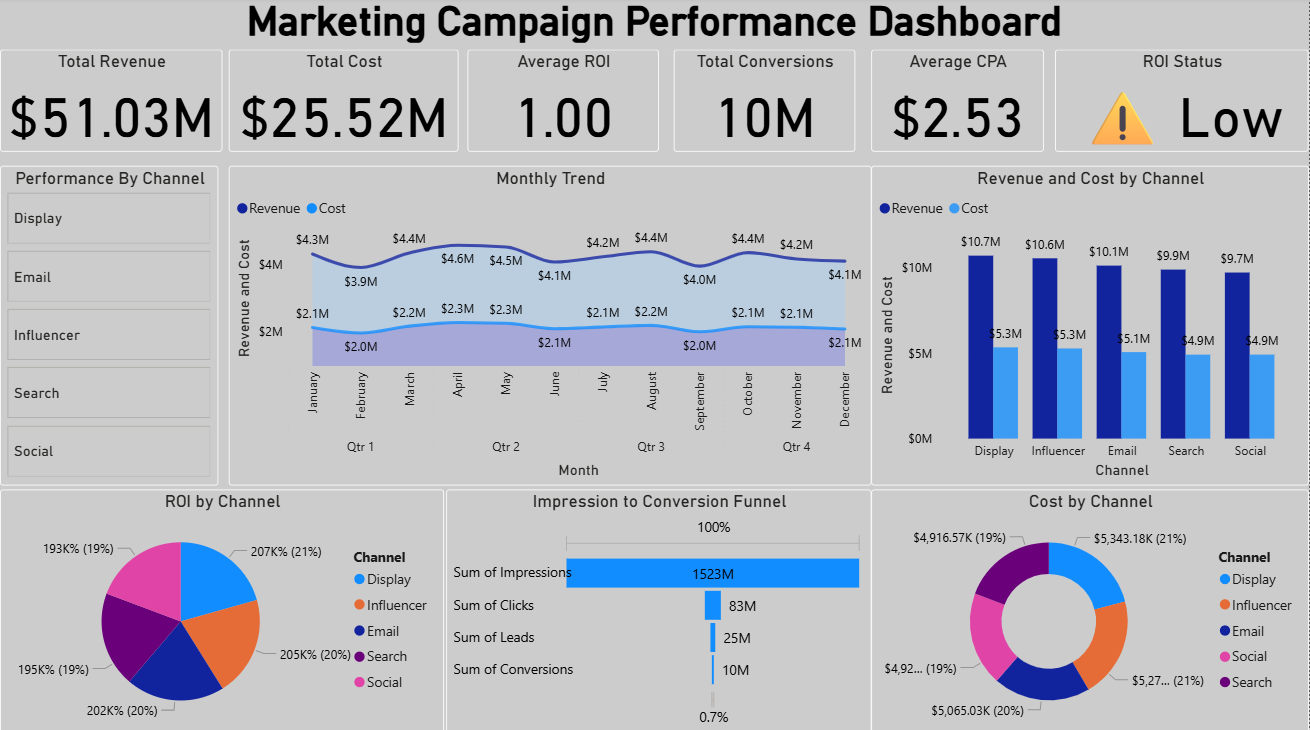

This screenshot's page, from the dashboard's own definition file:
{"tool":"powerbi","page":{"name":"Page 1","canvas":[1280,720],"ordinal":0},"visuals":[{"type":"card","title":"Total Revenue","fields":{"Values":["Sum(marketing_campaign_performance_10000. Revenue_USD )"]},"box":[0,51.4,217.7,100.3],"z":0},{"type":"card","title":"Average ROI","fields":{"Values":["marketing_campaign_performance_10000.Final Overall ROI"]},"box":[457.3,51.4,187.1,100.3],"z":1000},{"type":"card","title":"Total Cost","fields":{"Values":["Sum(marketing_campaign_performance_10000. Cost_USD )"]},"box":[223.8,51.4,225,100.3],"z":2000},{"type":"card","title":"Total Conversions","fields":{"Values":["Sum(marketing_campaign_performance_10000.Conversions)"]},"box":[659.1,51.4,177.3,100.3],"z":3000},{"type":"card","title":"Average CPA","fields":{"Values":["marketing_campaign_performance_10000.Average CPA"]},"box":[852.3,51.4,168.8,100.3],"z":4000},{"type":"card","title":"ROI Status","fields":{"Values":["marketing_campaign_performance_10000.ROI Status"]},"box":[1032.1,51.4,248.2,100.3],"z":5000},{"type":"advancedSlicerVisual","title":"Performance By Channel","fields":{"Values":["marketing_campaign_performance_10000.Channel"]},"box":[0,165.1,214,313],"z":6000},{"type":"lineChart","title":"Monthly Trend","fields":{"Y":["Sum(marketing_campaign_performance_10000. Revenue_USD )","Sum(marketing_campaign_performance_10000. Cost_USD )"],"Category":["marketing_campaign_performance_10000.StartDate.Variation.Date Hierarchy.Quarter","marketing_campaign_performance_10000.StartDate.Variation.Date Hierarchy.Month"]},"box":[223.8,165.1,628.5,313],"z":7000},{"type":"clusteredColumnChart","fields":{"Category":["marketing_campaign_performance_10000.Channel"],"Y":["Sum(marketing_campaign_performance_10000. Revenue_USD )","Sum(marketing_campaign_performance_10000. Cost_USD )"]},"box":[852.3,165.1,428,313],"z":8000},{"type":"pieChart","title":"ROI  by Channel","fields":{"Category":["marketing_campaign_performance_10000.Channel"],"Y":["Sum(marketing_campaign_performance_10000. ROI )"]},"box":[0,481.8,434.1,238.5],"z":9000},{"type":"donutChart","fields":{"Category":["marketing_campaign_performance_10000.Channel"],"Y":["Sum(marketing_campaign_performance_10000. Cost_USD )"]},"box":[852.3,481.8,428,238.5],"z":11000},{"type":"textbox","title":"Marketing Campaign Performance Dashboard","box":[0,0,1280.3,51.4],"z":12000},{"type":"funnel","title":"Impression to Conversion Funnel ","fields":{"Y":["Sum(marketing_campaign_performance_10000.Impressions)","Sum(marketing_campaign_performance_10000.Clicks)","Sum(marketing_campaign_performance_10000.Leads)","Sum(marketing_campaign_performance_10000.Conversions)"]},"box":[436.6,481.8,415.8,238.5],"z":12001}]}

Visuals, with their boxes in screenshot pixels (x1, y1, x2, y2), scaled from the page's 1280x720 canvas onto the 1310x730 screenshot:
"Total Revenue" card: crop(0, 52, 223, 154)
"Average ROI" card: crop(468, 52, 660, 154)
"Total Cost" card: crop(229, 52, 459, 154)
"Total Conversions" card: crop(675, 52, 856, 154)
"Average CPA" card: crop(872, 52, 1045, 154)
"ROI Status" card: crop(1056, 52, 1309, 154)
"Performance By Channel" advancedSlicerVisual: crop(0, 167, 219, 485)
"Monthly Trend" lineChart: crop(229, 167, 872, 485)
clusteredColumnChart - marketing_campaign_performance_10000.Channel x Sum(marketing_campaign_performance_10000. Revenue_USD ): crop(872, 167, 1309, 485)
"ROI  by Channel" pieChart: crop(0, 488, 444, 729)
donutChart - marketing_campaign_performance_10000.Channel x Sum(marketing_campaign_performance_10000. Cost_USD ): crop(872, 488, 1309, 729)
"Marketing Campaign Performance Dashboard" textbox: crop(0, 0, 1309, 52)
"Impression to Conversion Funnel " funnel: crop(447, 488, 872, 729)
